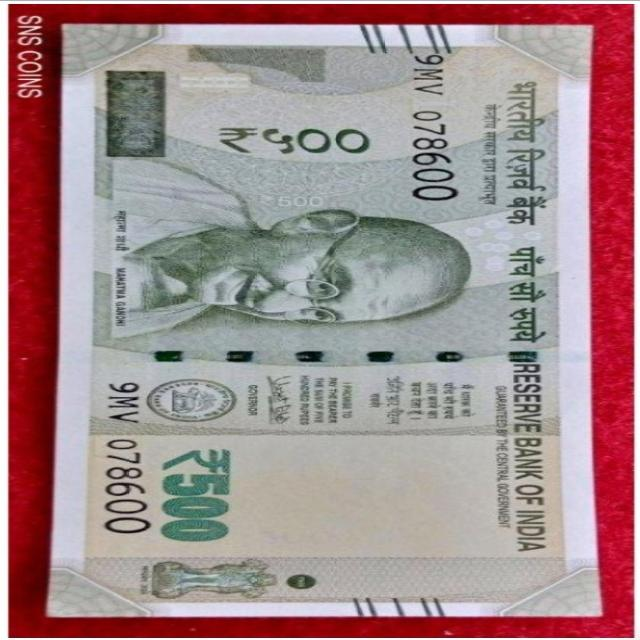500IndianRupees: (63, 26, 596, 615)
